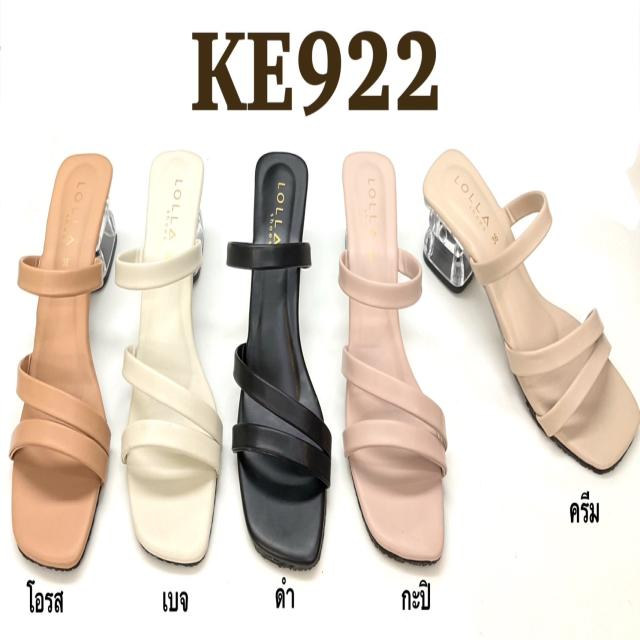bej: (126, 153, 216, 552)
black: (232, 158, 330, 570)
cream: (418, 142, 636, 472)
kapi: (340, 152, 446, 556)
orot: (13, 152, 113, 568)
